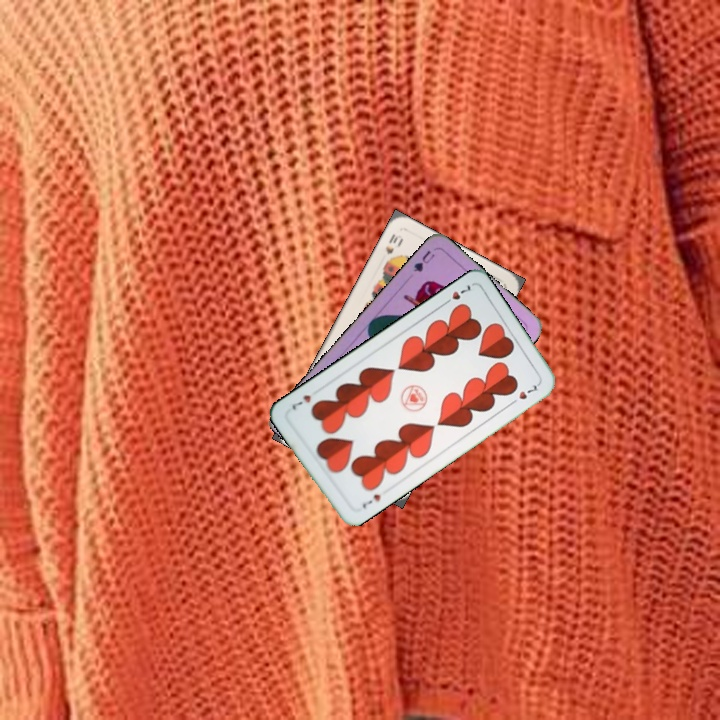GU: (409, 246, 437, 275)
H7: (439, 280, 475, 308), (358, 490, 383, 511)
S10: (381, 230, 405, 267)
